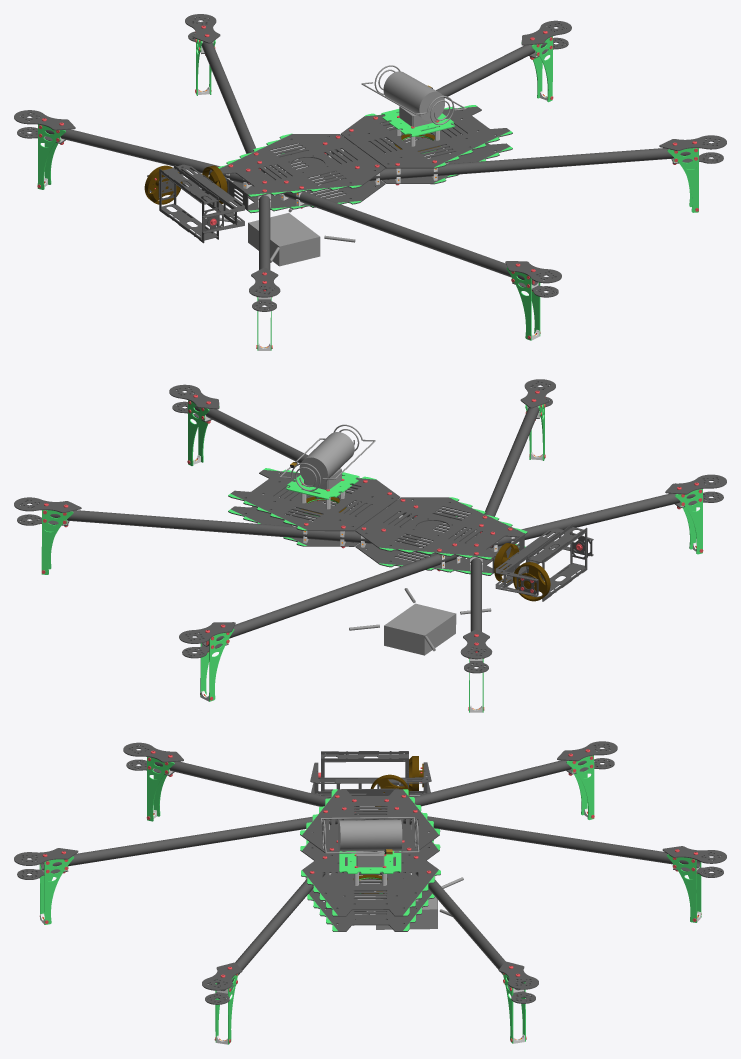
The model's file is vol1.obj.
3 renders of one model, top to bottom at view 1: azimuth 30°, elevation 25°; view 2: azimuth 150°, elevation 25°; view 3: azimuth 270°, elevation 25°, orthographic.
Visible parts, largest first — view 1: CPT18, battery_vol1, asemblyvol1; view 2: CPT18, battery_vol1, asemblyvol1; view 3: CPT18, asemblyvol1, battery_vol1.
Part boxes in pixels (x1,y1,x2,y2): CPT18: (14, 14, 726, 350); battery_vol1: (219, 208, 355, 266); asemblyvol1: (361, 65, 466, 125); CPT18: (14, 379, 726, 712); battery_vol1: (349, 588, 491, 655); asemblyvol1: (279, 424, 375, 491); CPT18: (14, 741, 726, 1044); asemblyvol1: (320, 817, 419, 854); battery_vol1: (354, 877, 463, 929).
Bounding box in the file's own units: 94.4 × 27.46 × 115.
